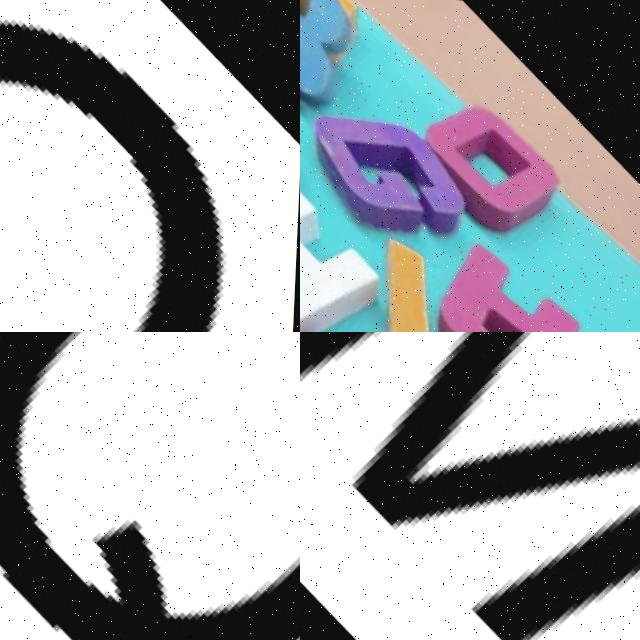B: (300, 0, 390, 122)
G: (300, 62, 477, 255)
H: (300, 134, 400, 332)
L: (312, 210, 560, 332)
M: (300, 332, 640, 640)
O: (0, 12, 225, 332), (386, 53, 581, 252)
Q: (0, 332, 300, 640)
